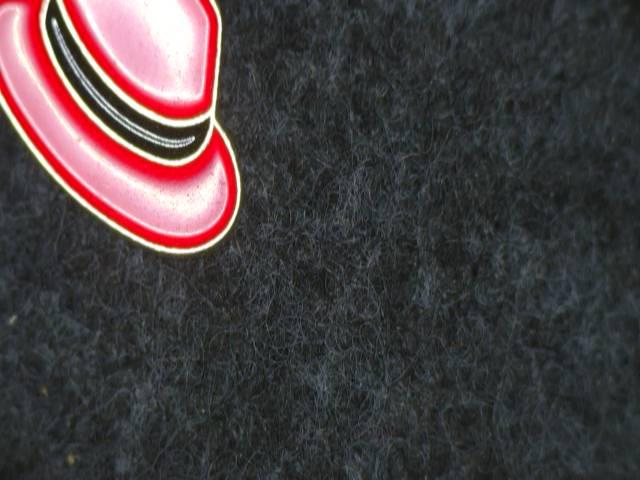Red-Hat: (0, 0, 266, 303)
